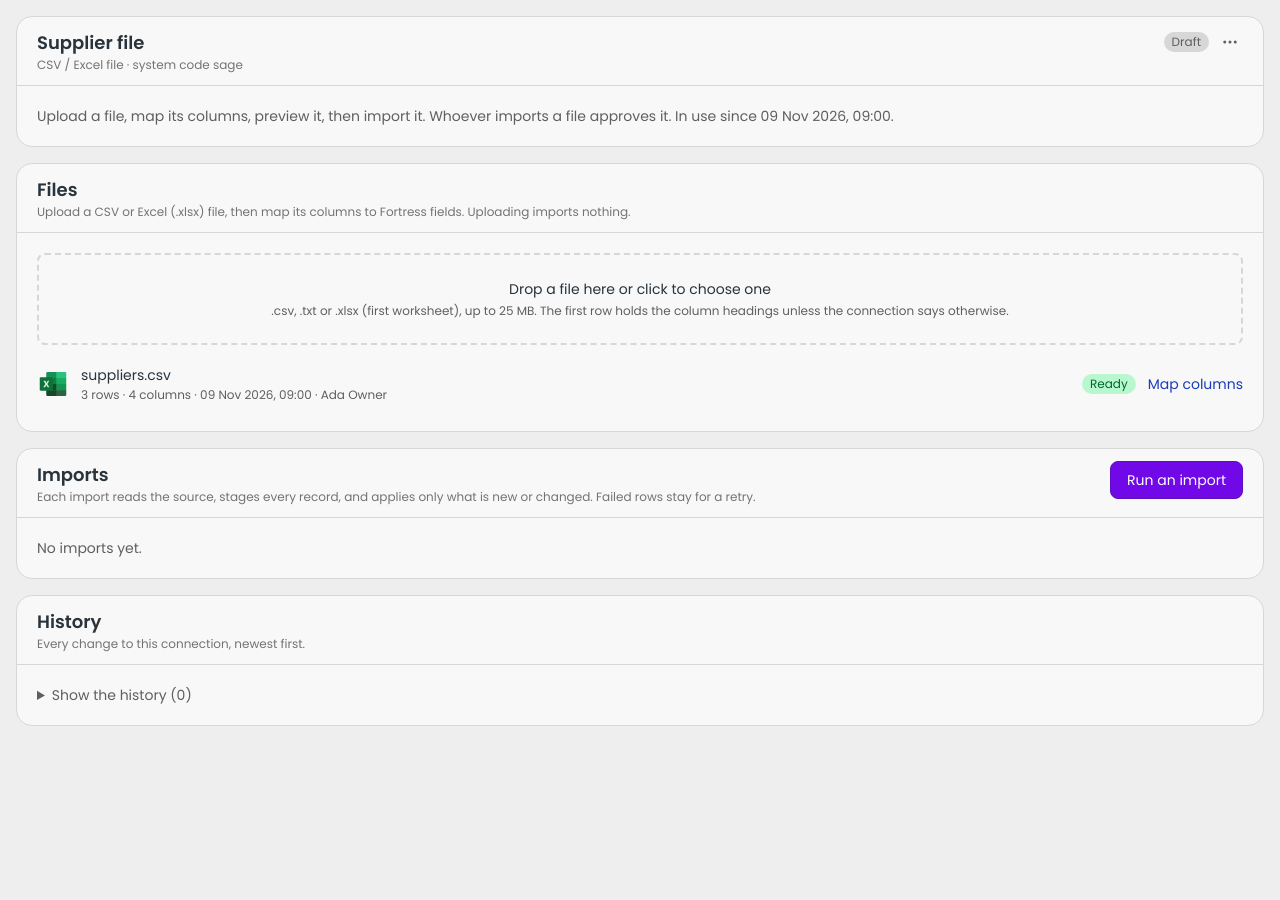
file connection page › does not run a file that has no mapping yet
Click the button "Run an import" at (1176, 480), box [1110, 461, 1243, 499]
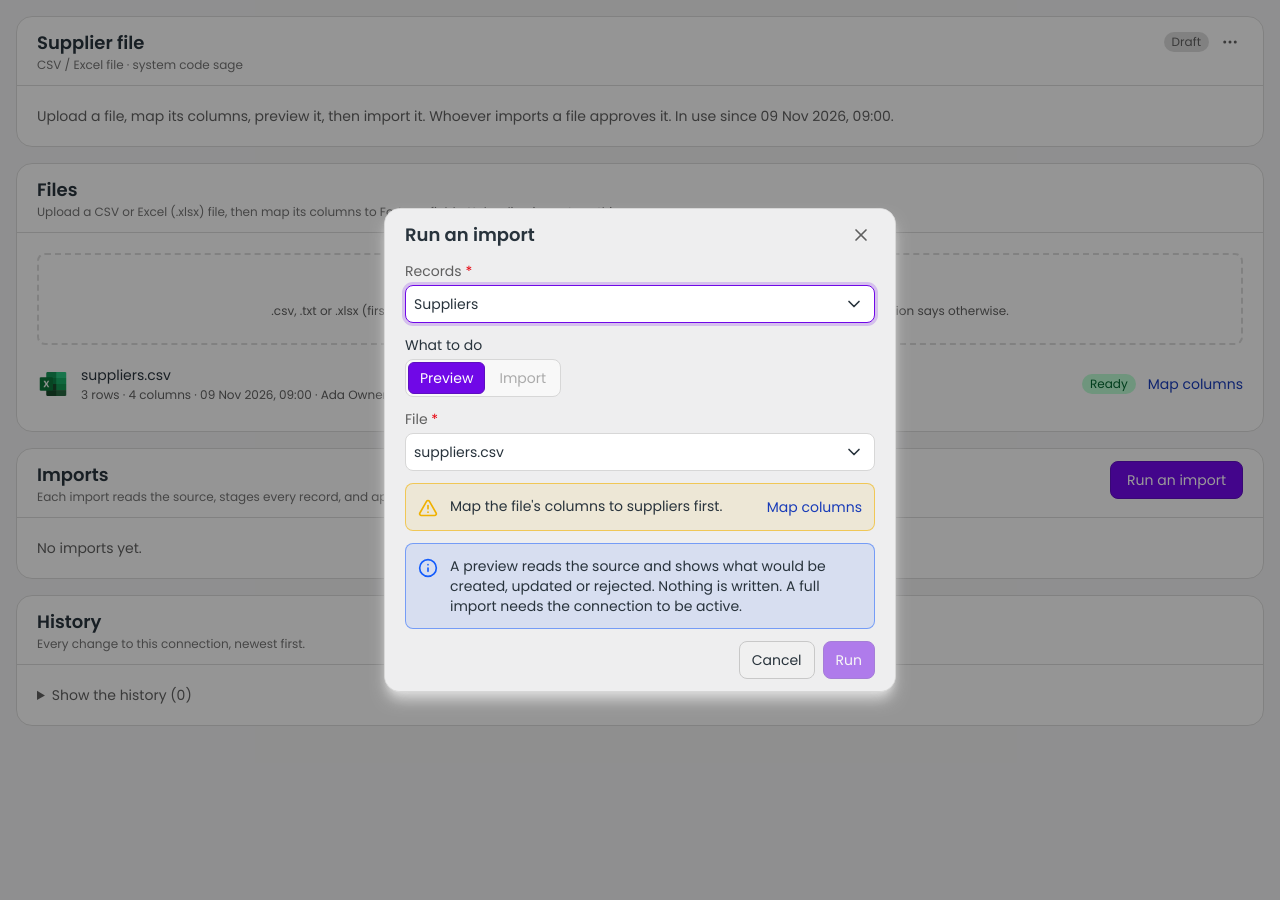
Expected: the text "Map the file's columns to suppliers first." is shown, [450, 496, 755, 516]
Expected: the button "Run" is disabled, [823, 641, 875, 679]
